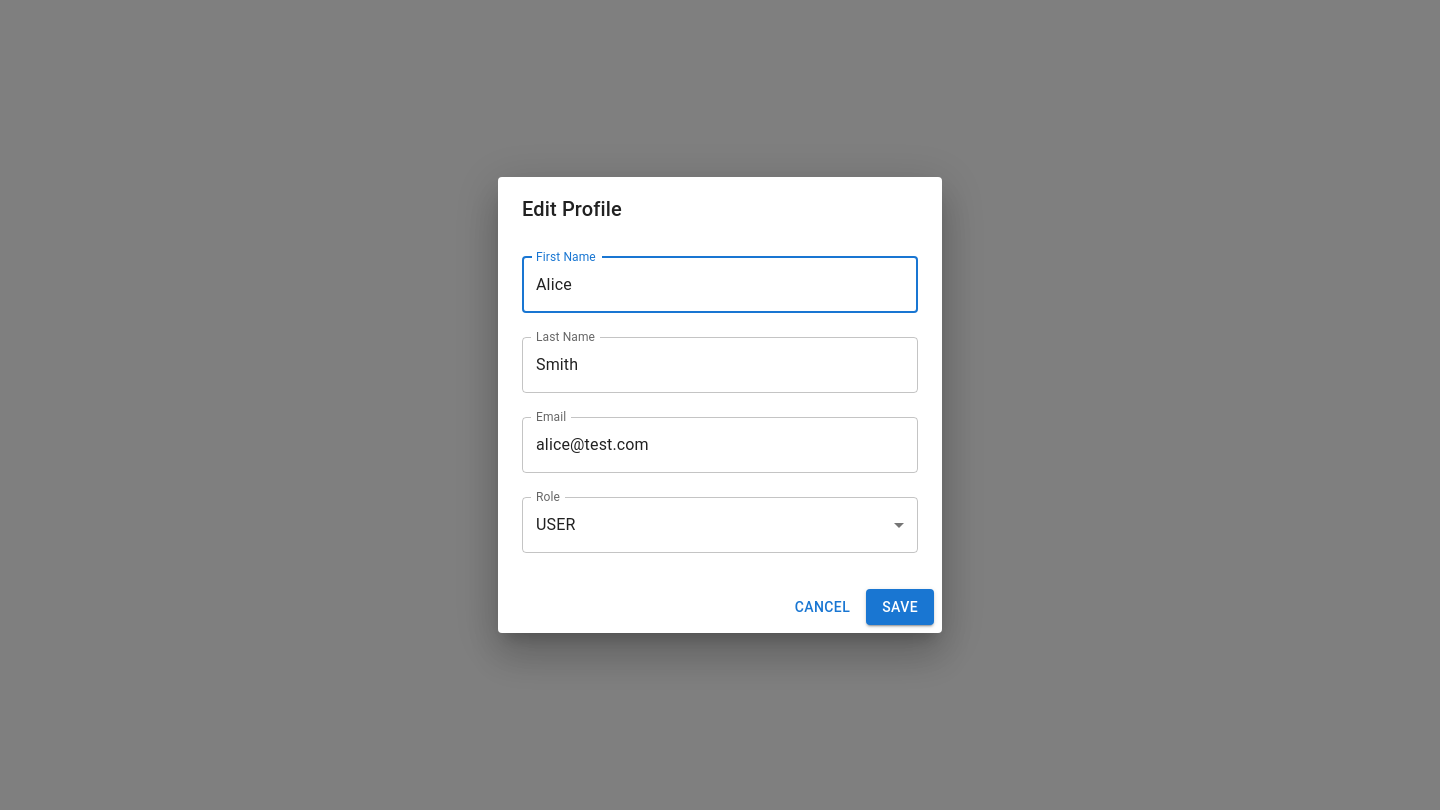
it: ProfileFormDialog error paths › shows validation error when names are cleared
Step 1. Clear the field labelled "First Name" → (720, 285), box [522,257,918,313]
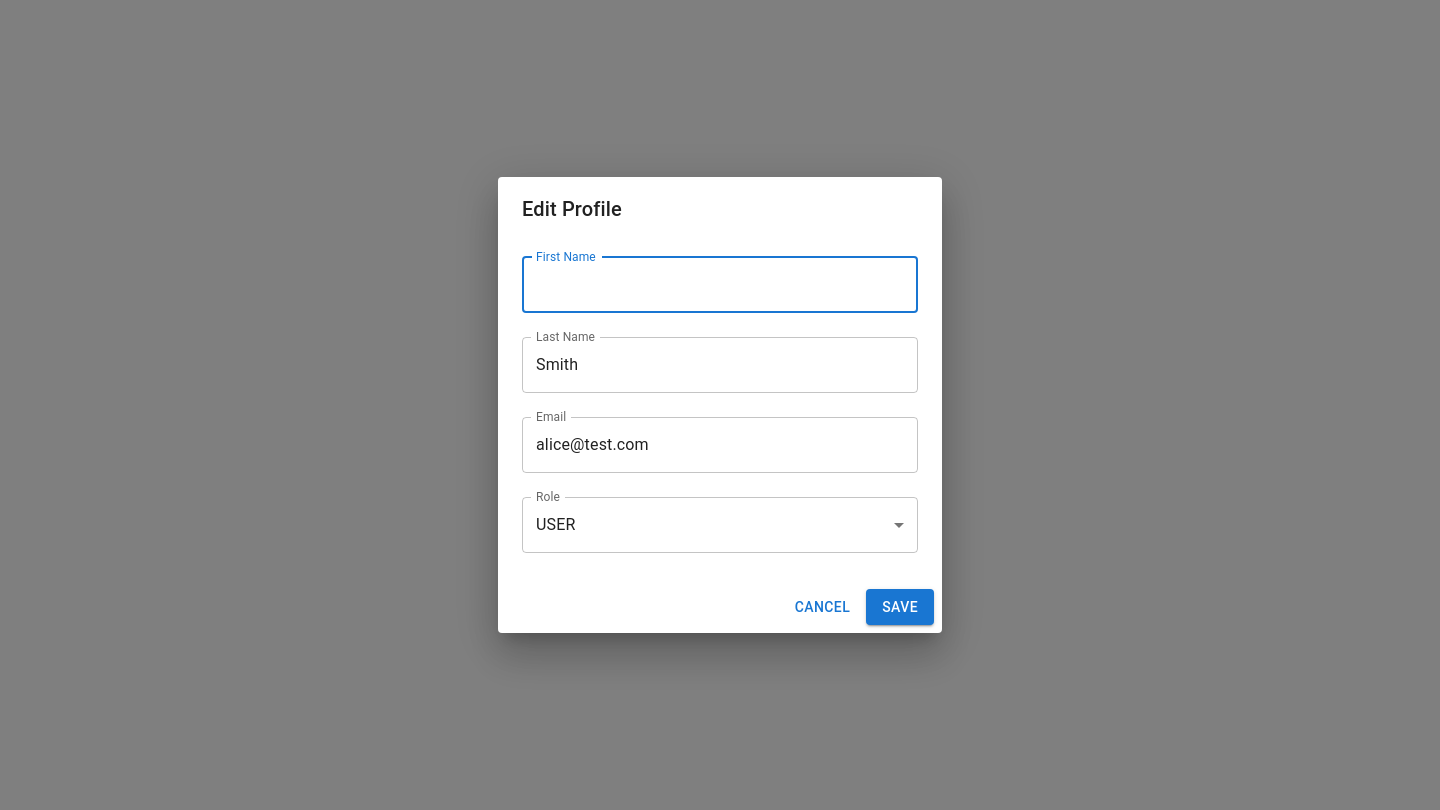
Step 2. Click the button "Save" → click(900, 607), box [866,589,934,625]
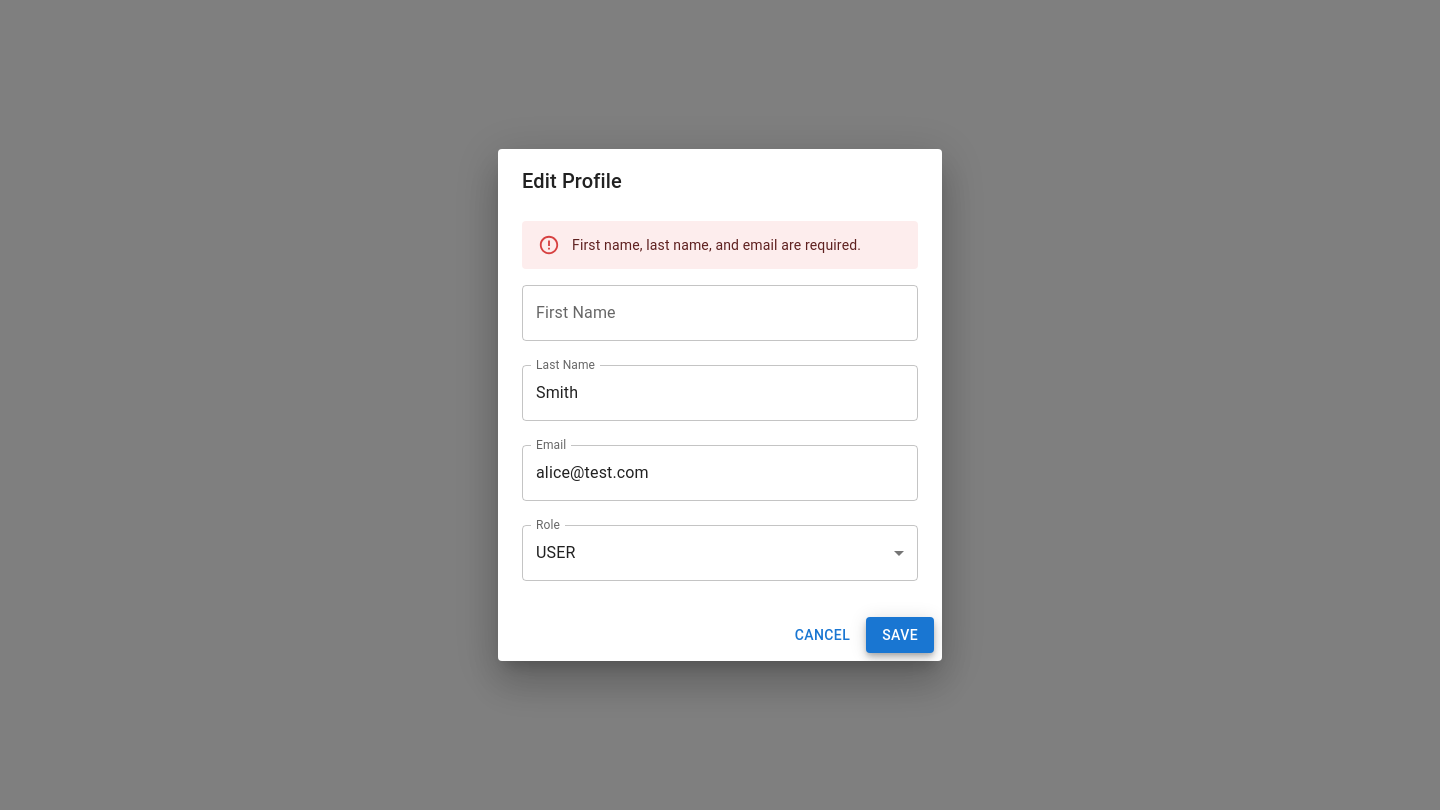
Expected: the message "First name, last name, and email are required." is shown, [522,221,918,269]
